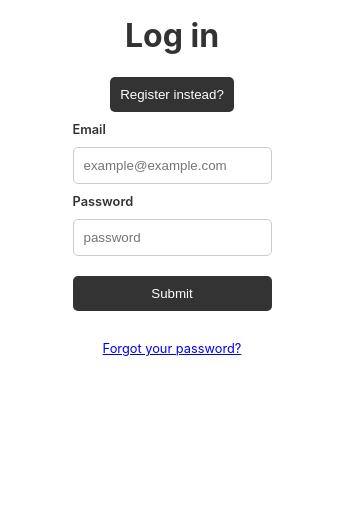
Test: Auth page › switches to register form when "Register" button is clicked
Step 1. Click the button "Register instead?" → (172, 95), box [110, 77, 234, 112]
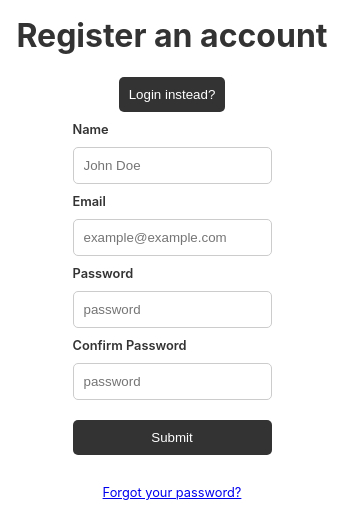
Expected: the button named "Submit" is shown, [72, 420, 272, 455]
Now the heading reads "Register an account", box [16, 16, 328, 55]
Now the field labelled "Name" is shown, box [72, 147, 272, 184]
